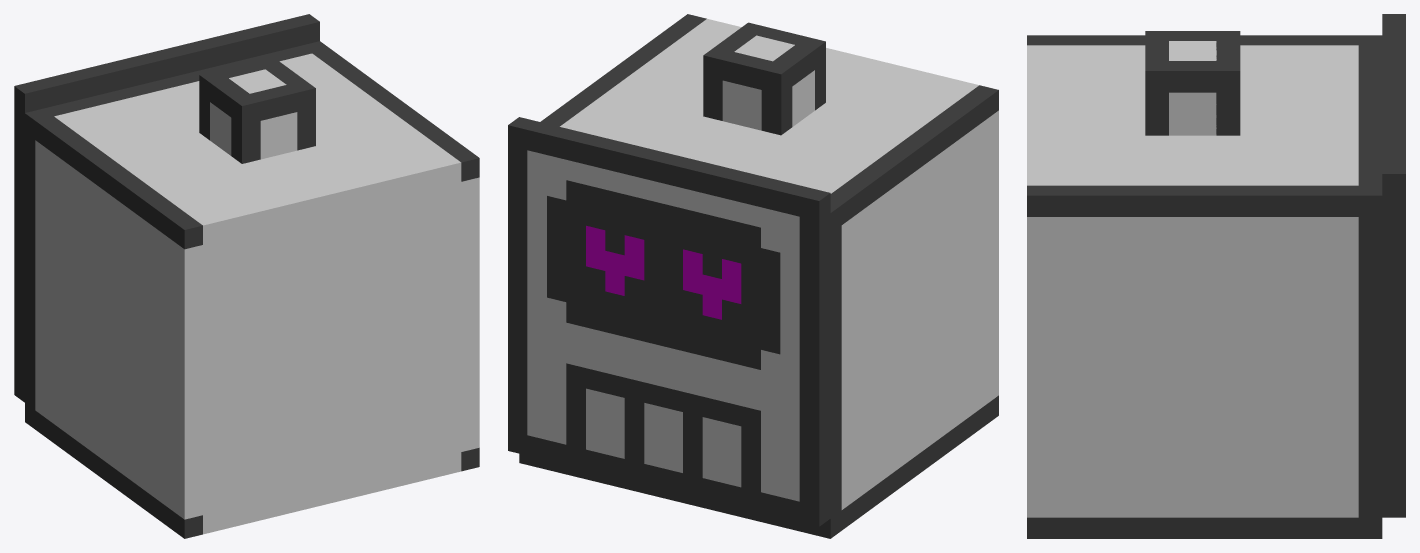
The model's file is dcb5a96e-6040-4d59-9a2f-c1e8b9aea989.glb.
3 views of the same model, side by side, from view 1: azimuth 30°, elevation 25°; view 2: azimuth 150°, elevation 25°; view 3: azimuth 270°, elevation 25° (orthographic). The views are drawn at different scales.
Size of the model in its own units: 0.8 by 0.95 by 0.8.
